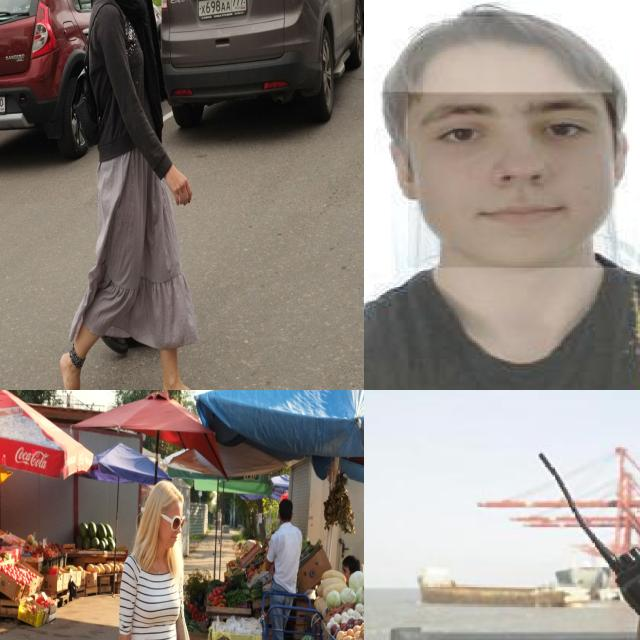Barefoots: (60, 352, 89, 390), (162, 384, 211, 390)
No_Ear-Protection: (380, 135, 440, 208)
No_Glasses: (398, 82, 605, 166)
face_nomask: (408, 93, 617, 268)
head_nohelmet: (380, 17, 612, 92)
person: (364, 0, 640, 390)
